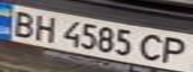4: (57, 18, 84, 48)
5: (115, 27, 139, 58), (78, 21, 100, 52)
8: (93, 25, 118, 55)
B: (6, 8, 39, 38)
C: (136, 32, 169, 63)
H: (30, 12, 60, 43)
P: (157, 34, 193, 65)
